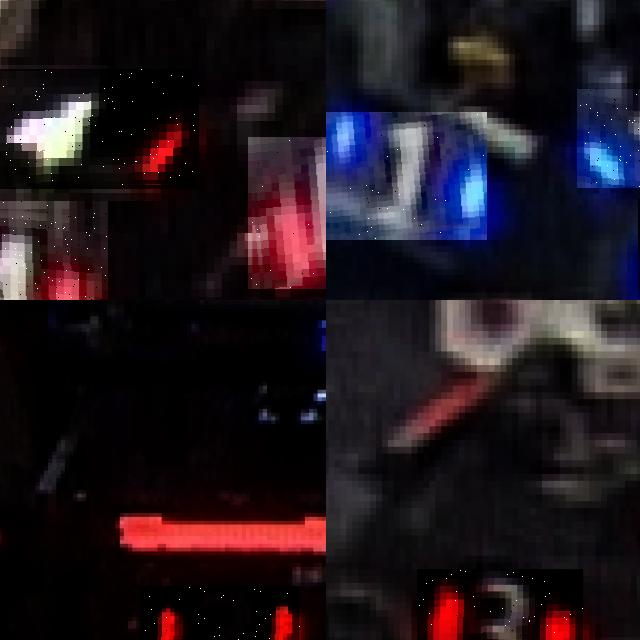B1: (326, 112, 487, 240), (576, 89, 640, 188)
R2: (140, 586, 300, 640)
R3: (417, 569, 583, 640)
R4: (0, 69, 198, 189), (248, 137, 326, 289), (0, 201, 107, 300)
